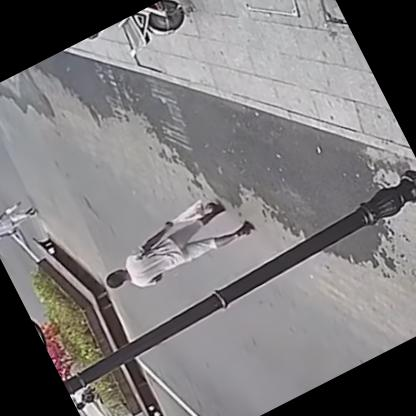Human Body: (84, 177, 265, 316), (0, 187, 48, 248)
